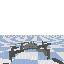drone: (8, 41, 51, 62)
